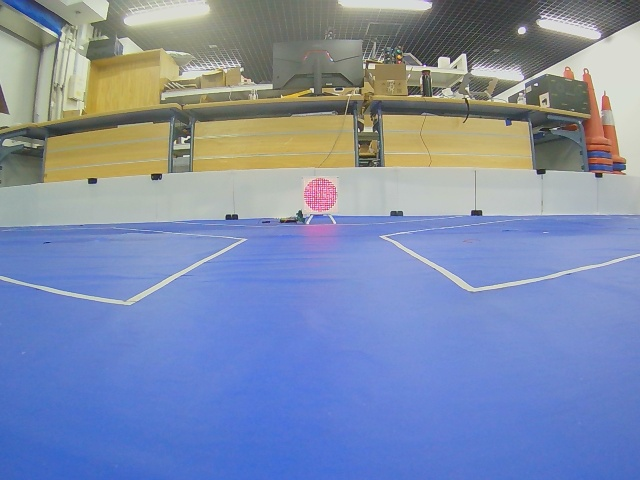red: (303, 178, 338, 214)
